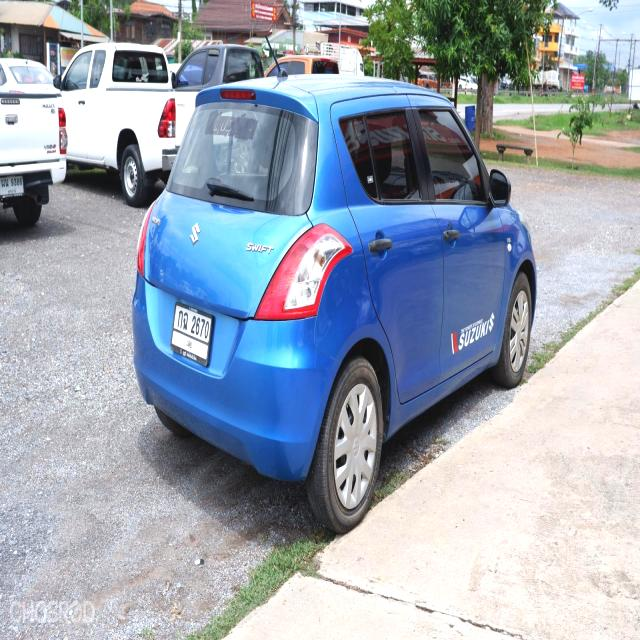license_plate: (170, 298, 214, 369), (0, 172, 26, 201)
